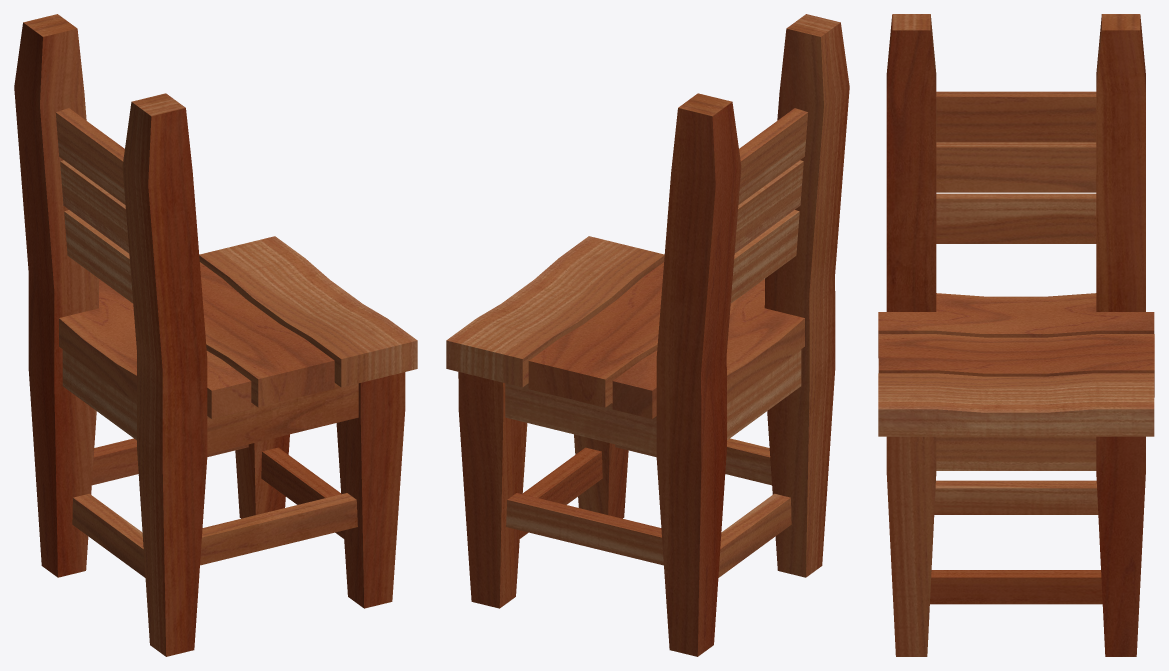
Rendered from stylized_low_poly_chair.glb.
The picture shows the model from 3 angles, left to right: view 1: azimuth 30°, elevation 25°; view 2: azimuth 150°, elevation 25°; view 3: azimuth 270°, elevation 25°; orthographic projection. The views are drawn at different scales.
Visible parts, largest first — view 1: pernas_low, acento_low, suportes_low, encosto_low; view 2: pernas_low, acento_low, suportes_low, encosto_low; view 3: pernas_low, acento_low, encosto_low, suportes_low.
Boxes of the visible parts, <box> form: pernas_low: <box>14,14,405,656</box>; acento_low: <box>59,236,417,418</box>; suportes_low: <box>62,349,358,577</box>; encosto_low: <box>55,108,133,303</box>; pernas_low: <box>458,14,849,656</box>; acento_low: <box>446,236,804,418</box>; suportes_low: <box>505,349,801,577</box>; encosto_low: <box>730,108,808,303</box>; pernas_low: <box>886,14,1145,656</box>; acento_low: <box>878,293,1154,436</box>; encosto_low: <box>936,91,1096,243</box>; suportes_low: <box>930,436,1102,604</box>.
Bounding box in the file's own units: 296 × 582 × 276.
Materials: 1 (1 with a texture image).
